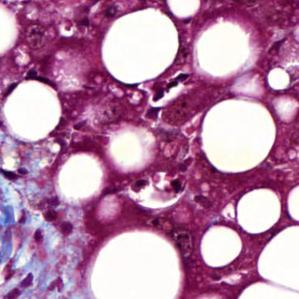steatosis: (96, 9, 181, 82), (201, 99, 280, 171), (234, 184, 287, 233), (197, 221, 243, 268)
